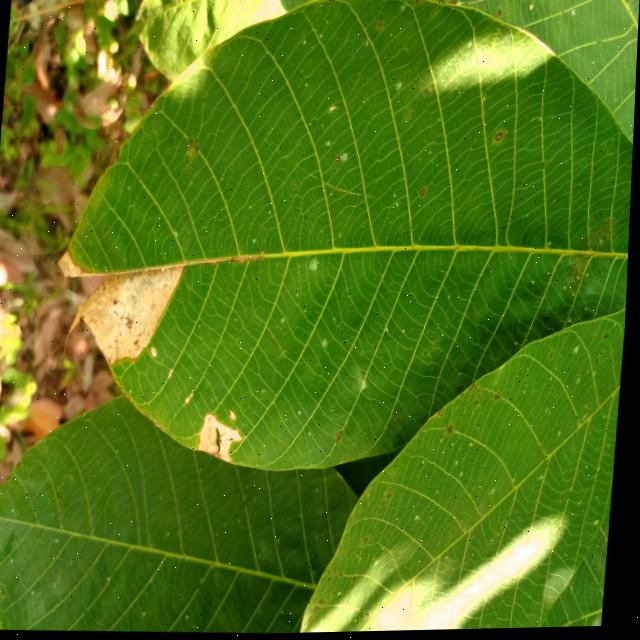Colletotrichum: (496, 134, 504, 143), (421, 189, 427, 197), (451, 426, 457, 434), (368, 537, 373, 543), (338, 156, 342, 163), (497, 10, 501, 17), (406, 111, 410, 117), (553, 353, 557, 359), (598, 360, 602, 366), (358, 577, 362, 582), (378, 482, 382, 487), (607, 335, 611, 340), (293, 185, 297, 189), (478, 401, 482, 405)
Leaf-Blight: (66, 260, 188, 370), (200, 412, 250, 465), (59, 248, 99, 278)
